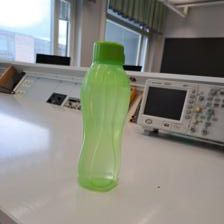bottle: (75, 41, 131, 190)
